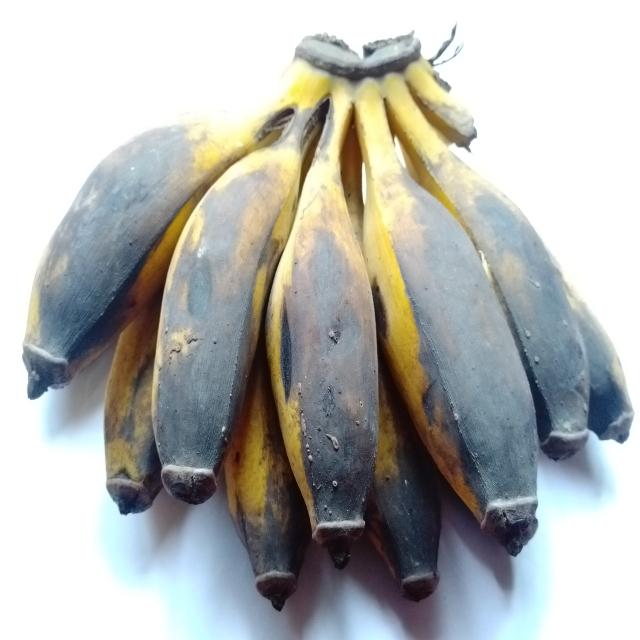banana: (24, 60, 314, 398), (356, 81, 537, 554), (384, 75, 589, 459), (153, 68, 328, 503), (267, 81, 378, 568), (225, 338, 310, 610), (366, 354, 440, 601), (105, 295, 161, 514), (565, 279, 634, 443), (404, 57, 476, 147), (341, 122, 363, 245)
